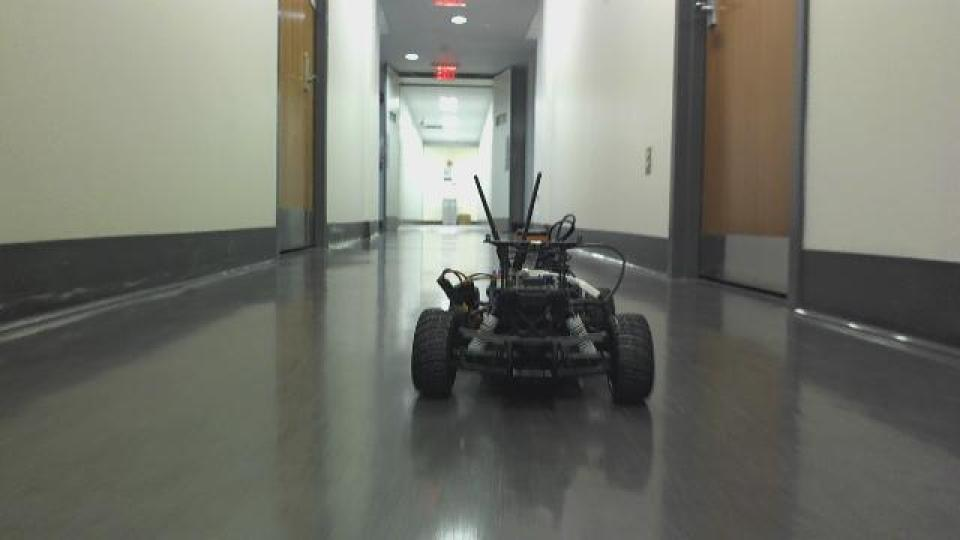car: (407, 170, 657, 406)
